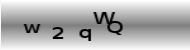2: (50, 26, 64, 40)
Q: (106, 21, 123, 36)
W: (92, 11, 115, 24)
q: (77, 27, 92, 42)
w: (21, 23, 41, 33)
